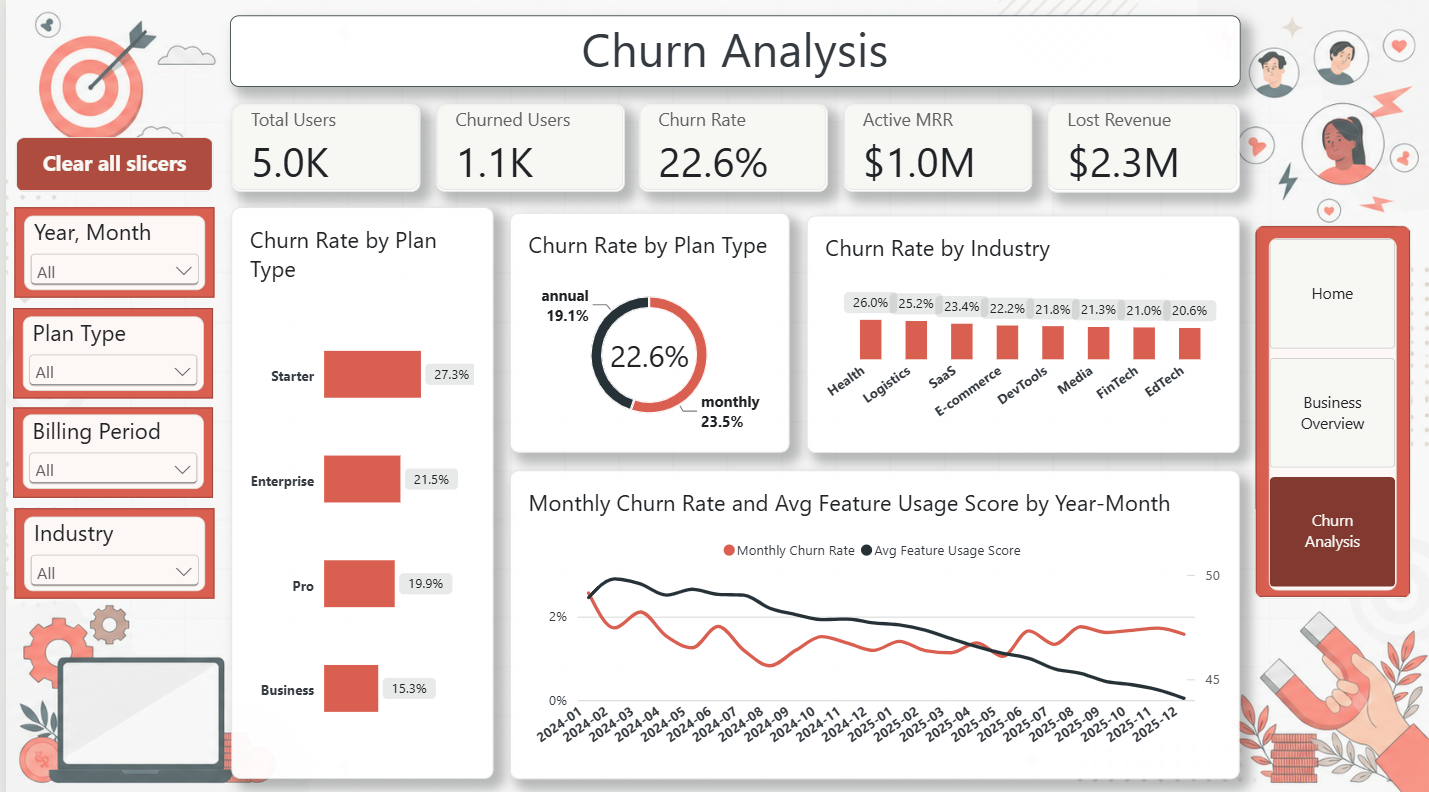

The dashboard page shown, as its layout file describes it:
{"tool":"powerbi","page":{"name":"Churn Analysis","canvas":[1280,720],"ordinal":2},"visuals":[{"type":"textbox","box":[201.8,13.6,908.9,64.4],"z":0},{"type":"shape","box":[7.3,186.6,180,81.4],"z":0,"group":"g1"},{"type":"shape","box":[6.6,276.6,180,81.4],"z":0,"group":"g2"},{"type":"shape","box":[6,366.6,180,81.4],"z":0,"group":"g3"},{"type":"shape","box":[7.9,456.6,180,81.4],"z":0,"group":"g4"},{"type":"group","id":"g1","title":"Group 1","box":[7.3,186.6,178.7,81.4],"z":1000},{"type":"slicer","fields":{"Values":["public user_monthly.month.Variation.Date Hierarchy.Year","public user_monthly.month.Variation.Date Hierarchy.Month"]},"box":[16.7,193.7,162.6,66.8],"z":1000,"group":"g1"},{"type":"slicer","fields":{"Values":["public users.plan_type"]},"box":[16,284.4,162.6,66.8],"z":1000,"group":"g2"},{"type":"slicer","fields":{"Values":["public users.billing_period"]},"box":[15.4,373.4,162.6,66.8],"z":1000,"group":"g3"},{"type":"slicer","fields":{"Values":["public users.industry"]},"box":[17.3,464.2,162.6,66.8],"z":1000,"group":"g4"},{"type":"group","id":"g2","title":"Group 2","box":[6.6,276.6,178.7,81.4],"z":2000},{"type":"group","id":"g3","title":"Group 3","box":[6,366.6,178.7,81.4],"z":3000},{"type":"group","id":"g4","title":"Group 4","box":[7.9,456.6,178.7,81.4],"z":4000},{"type":"cardVisual","fields":{"Data":["DAX Measures.Total Users"]},"box":[202.5,93.3,170,79.4],"z":5000},{"type":"cardVisual","fields":{"Data":["DAX Measures.Churned Users"]},"box":[386.2,93.3,170,79.4],"z":6000},{"type":"cardVisual","fields":{"Data":["DAX Measures.Churn Rate"]},"box":[569.8,93.3,170,79.4],"z":7000},{"type":"cardVisual","fields":{"Data":["DAX Measures.Active MRR"]},"box":[753.4,93.3,170,79.4],"z":8000},{"type":"cardVisual","fields":{"Data":["DAX Measures.Churned Total Revenue"]},"box":[937.8,93.3,173,79.7],"z":9000},{"type":"shape","box":[1123.7,202.5,141,335.5],"z":10000},{"type":"clusteredBarChart","title":"Churn Rate by Plan Type","fields":{"Category":["public users.plan_type"],"Y":["DAX Measures.Churn Rate"]},"box":[202.5,186.9,235.8,514],"z":12000},{"type":"donutChart","title":"Churn Rate by Plan Type","fields":{"Category":["public users.billing_period"],"Y":["DAX Measures.Churn Rate"]},"box":[453.9,191.3,251.4,215.8],"z":13000},{"type":"clusteredColumnChart","title":"Churn Rate by Industry","fields":{"Category":["public users.industry"],"Y":["DAX Measures.Churn Rate"]},"box":[720.9,193.6,389.4,213.6],"z":14000},{"type":"lineChart","fields":{"Category":["public user_monthly.Year-Month"],"Y":["DAX Measures.Monthly Churn Rate"],"Y2":["DAX Measures.Avg Feature Usage Score"]},"box":[453.9,422.7,656.4,278.1],"z":15000},{"type":"actionButton","box":[8.5,123.8,178.1,49.2],"z":16000},{"type":"pageNavigator","box":[1136.2,213.7,115.3,317.1],"z":17000}]}

Visuals, with their boxes in screenshot pixels (x1, y1, x2, y2), scaled from the page's 1280x720 canvas onto the 1429x792 screenshot:
textbox: BBox(225, 15, 1240, 86)
shape: BBox(8, 205, 209, 295)
shape: BBox(7, 304, 208, 394)
shape: BBox(7, 403, 208, 493)
shape: BBox(9, 502, 210, 592)
"Group 1" group: BBox(8, 205, 208, 295)
slicer - public user_monthly.month.Variation.Date Hierarchy.Year x public user_monthly.month.Variation.Date Hierarchy.Month: BBox(19, 213, 200, 287)
slicer - public users.plan_type: BBox(18, 313, 199, 386)
slicer - public users.billing_period: BBox(17, 411, 199, 484)
slicer - public users.industry: BBox(19, 511, 201, 584)
"Group 2" group: BBox(7, 304, 207, 394)
"Group 3" group: BBox(7, 403, 206, 493)
"Group 4" group: BBox(9, 502, 208, 592)
cardVisual - DAX Measures.Total Users: BBox(226, 103, 416, 190)
cardVisual - DAX Measures.Churned Users: BBox(431, 103, 621, 190)
cardVisual - DAX Measures.Churn Rate: BBox(636, 103, 826, 190)
cardVisual - DAX Measures.Active MRR: BBox(841, 103, 1031, 190)
cardVisual - DAX Measures.Churned Total Revenue: BBox(1047, 103, 1240, 190)
shape: BBox(1255, 223, 1412, 592)
"Churn Rate by Plan Type" clusteredBarChart: BBox(226, 206, 489, 771)
"Churn Rate by Plan Type" donutChart: BBox(507, 210, 787, 448)
"Churn Rate by Industry" clusteredColumnChart: BBox(805, 213, 1240, 448)
lineChart - public user_monthly.Year-Month x DAX Measures.Monthly Churn Rate: BBox(507, 465, 1240, 771)
actionButton: BBox(9, 136, 208, 190)
pageNavigator: BBox(1268, 235, 1397, 584)
